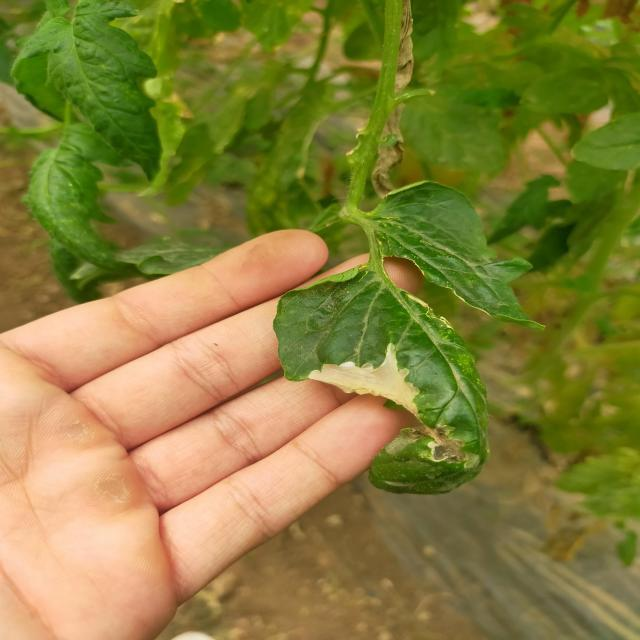Tuta absoluta: (308, 320, 441, 420)
